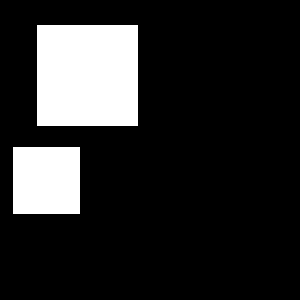circle: (37, 25, 138, 126), (13, 147, 80, 214)
